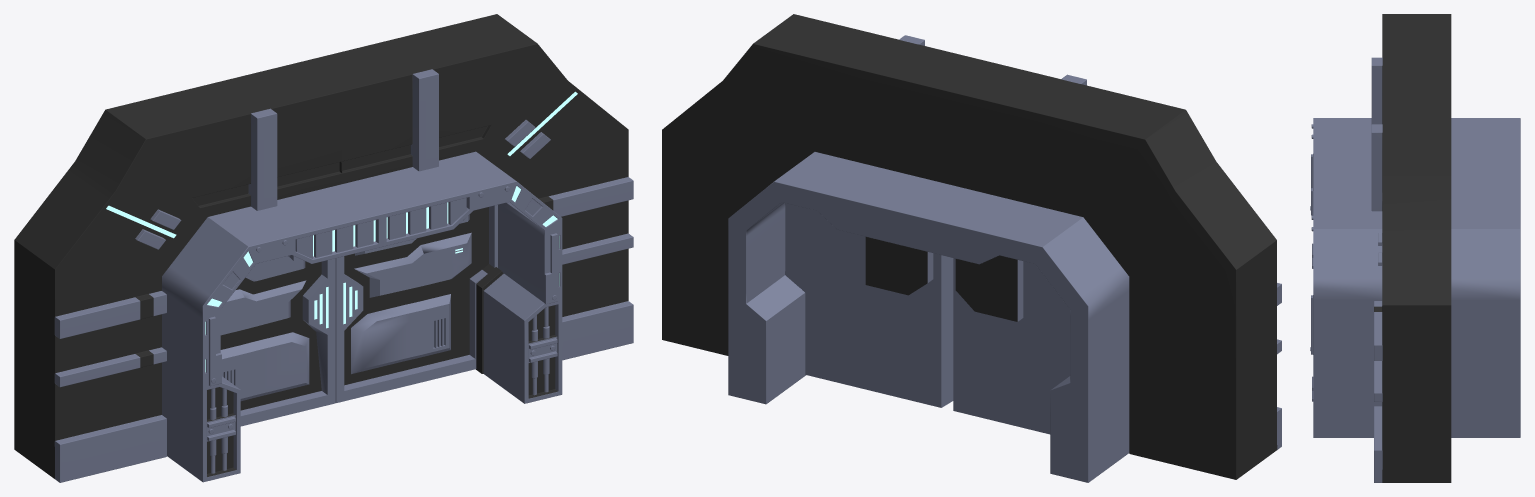
Rendered from gate.glb.
3 renders of one model, left to right at view 1: azimuth 30°, elevation 25°; view 2: azimuth 150°, elevation 25°; view 3: azimuth 270°, elevation 25°, orthographic. The views are drawn at different scales.
Visible parts, largest first — view 1: GateMesh; view 2: GateMesh; view 3: GateMesh.
Part boxes in pixels (bbox=[...]): GateMesh: bbox=[14, 14, 633, 482]; GateMesh: bbox=[662, 14, 1281, 482]; GateMesh: bbox=[1310, 14, 1520, 482].
Bounding box in the file's own units: 5.41 × 2.87 × 2.03.
